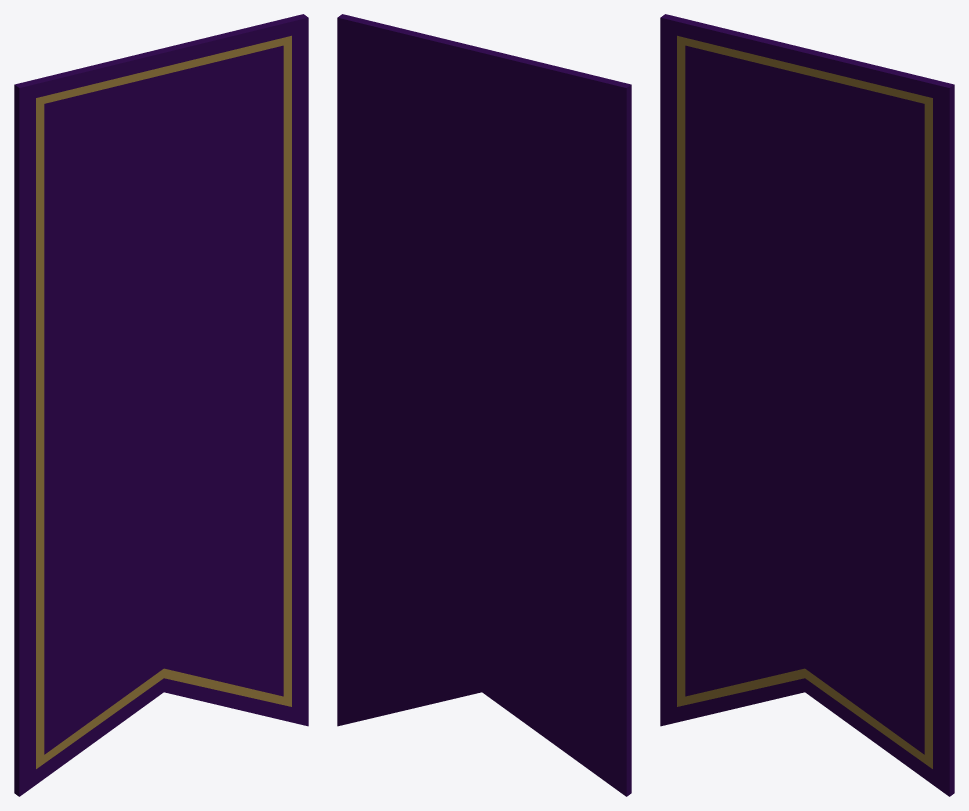
File: tapestry 2.fbx
The picture shows the model from 3 angles, left to right: view 1: azimuth 30°, elevation 25°; view 2: azimuth 150°, elevation 25°; view 3: azimuth 330°, elevation 25°; orthographic projection.
Parts seen in each view (by area): view 1: Cube; view 2: Cube; view 3: Cube.
Boxes of the visible parts, x1,y1,x2,y2 form: Cube: [14, 14, 308, 796]; Cube: [337, 14, 631, 796]; Cube: [660, 14, 954, 796].
Size of the model in its own units: 273 by 8.08 by 640.
